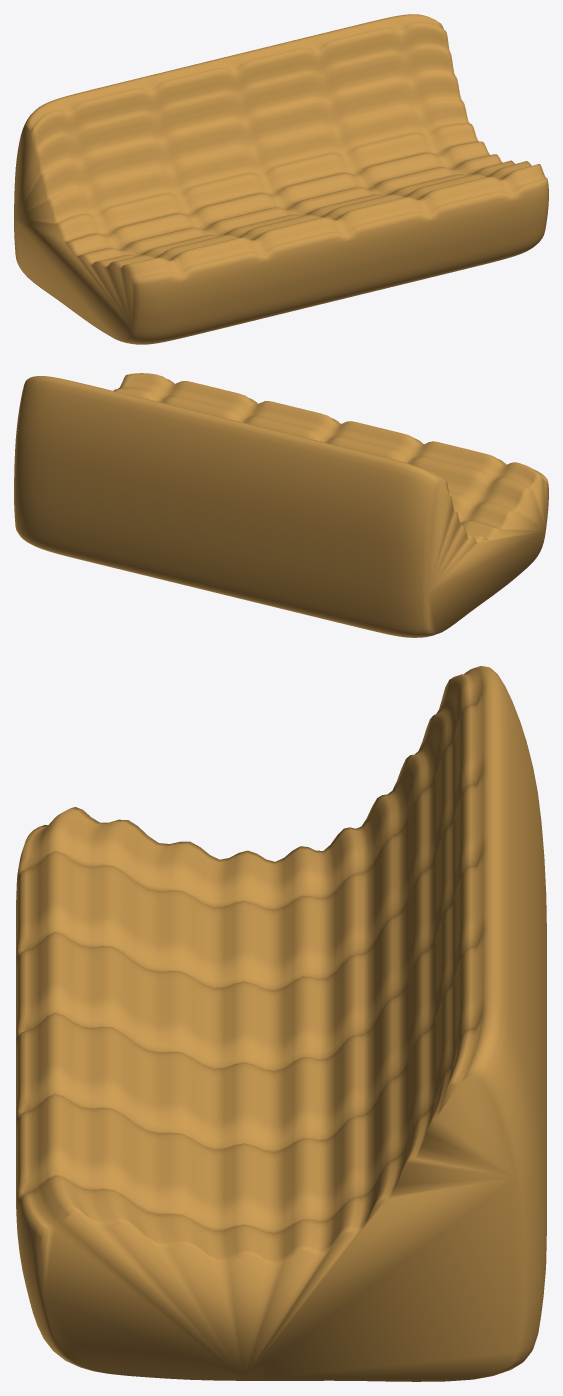
File: fireside.glb
3 renders of one model, top to bottom at view 1: azimuth 30°, elevation 25°; view 2: azimuth 150°, elevation 25°; view 3: azimuth 270°, elevation 25°, orthographic. The views are drawn at different scales.
Parts seen in each view (by area): view 1: fireside; view 2: fireside; view 3: fireside.
Boxes of the visible parts, x1,y1,x2,y2 form: fireside: (14,14,548,344); fireside: (14,373,548,637); fireside: (16,666,546,1381).
Bounding box in the file's own units: 1.8 × 0.723 × 1.
